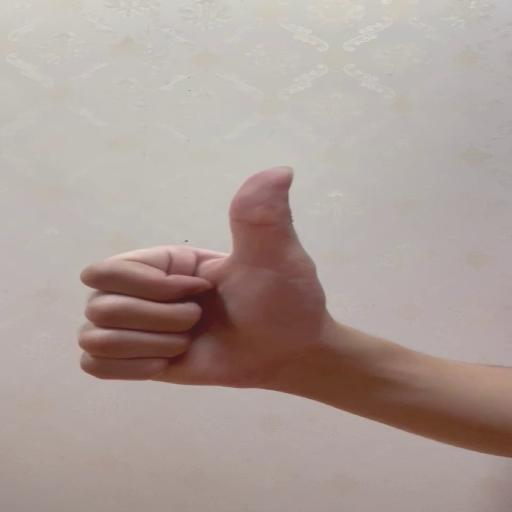thumbs_up: (75, 164, 315, 387)
